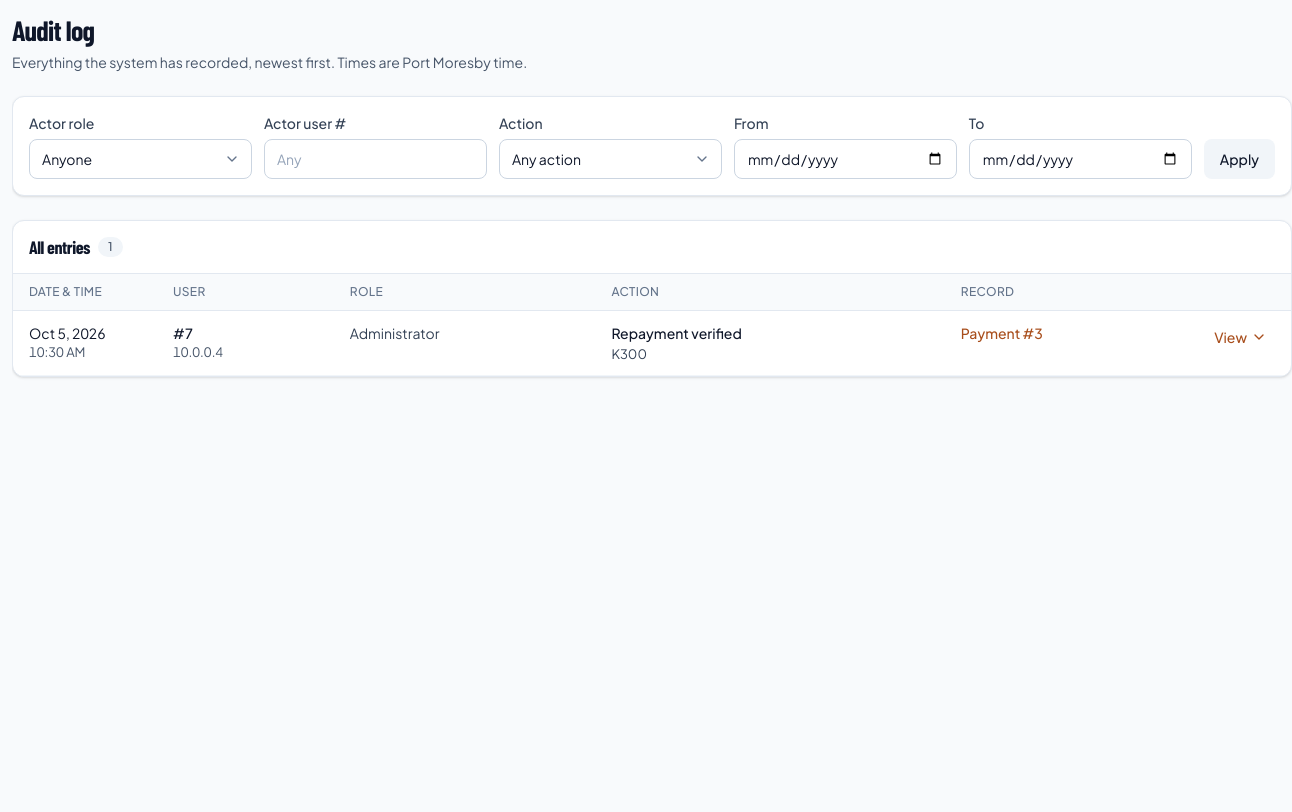
Audit log › loses nothing the old feed showed: every fact is on the row or in its details
Click the button named "View details: Repayment verified" at (1241, 337), box x1=1206 y1=323 x2=1275 y2=351
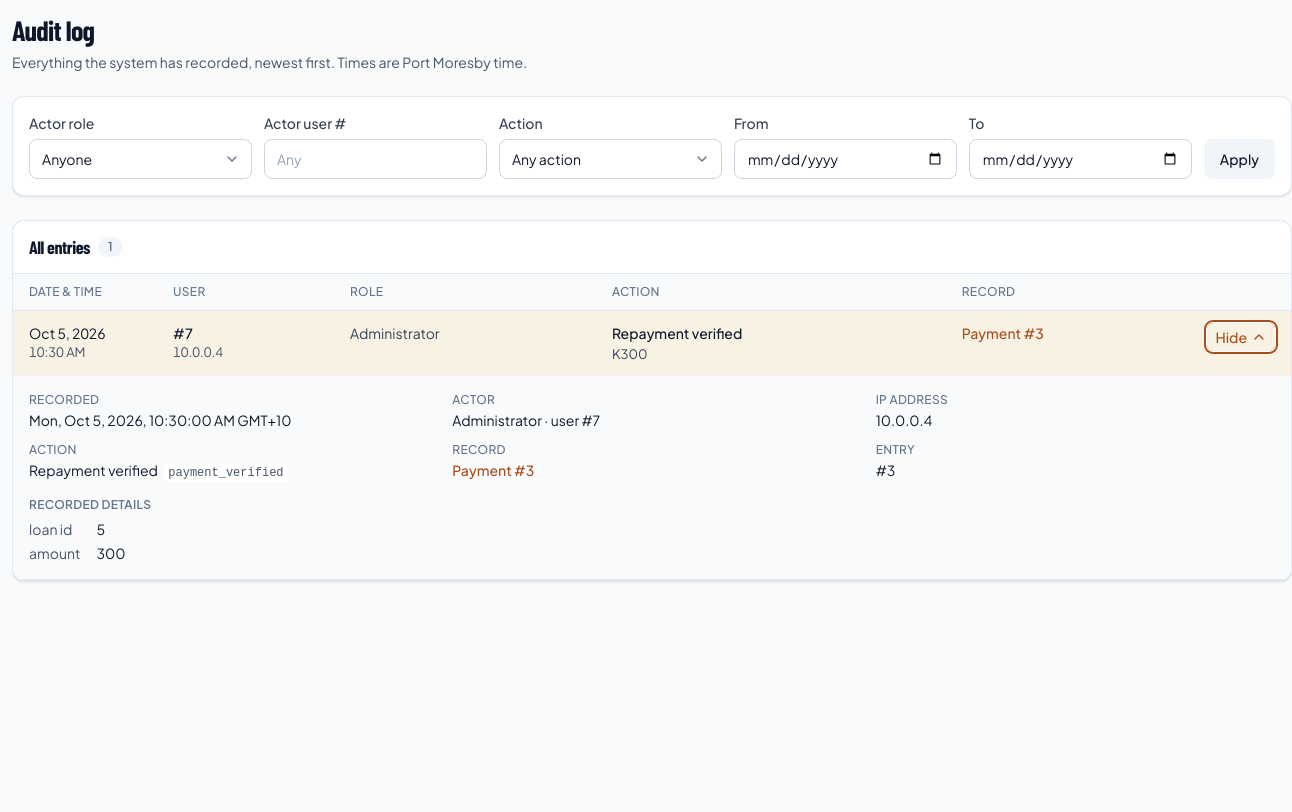
Expected: the text "loan id" is shown, x1=29 y1=520 x2=72 y2=538
Expected: the text "amount" is shown, x1=29 y1=543 x2=80 y2=563
Expected: the element with id "audit-entry-3" shows "Mon, Oct 5, 2026, 10:30:00 AM GMT+10", x1=29 y1=411 x2=292 y2=429
